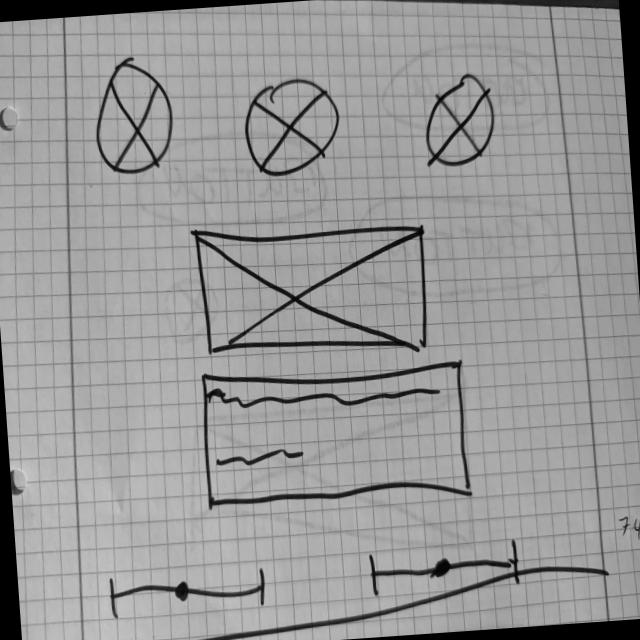image: (194, 212, 434, 364), (90, 58, 180, 180), (240, 76, 344, 180), (419, 71, 501, 172)
slider: (364, 537, 523, 600), (106, 566, 270, 626)
textarea: (199, 356, 477, 516)
